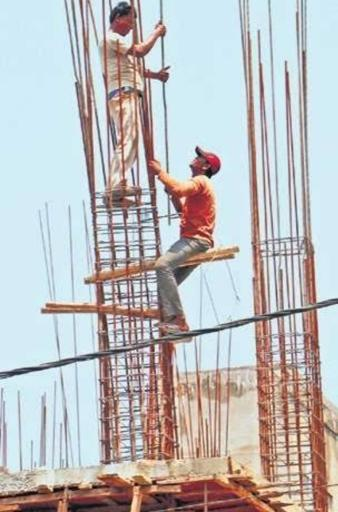unsafe person: (158, 149, 244, 338), (98, 4, 154, 200)
